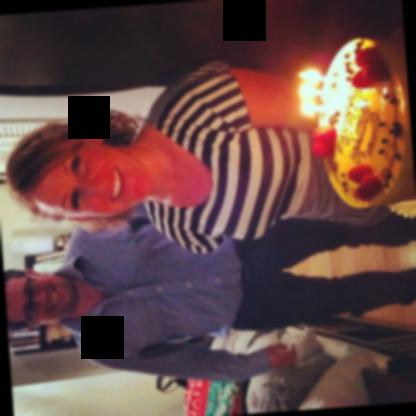handbag: (157, 335, 215, 391), (186, 377, 236, 416)
